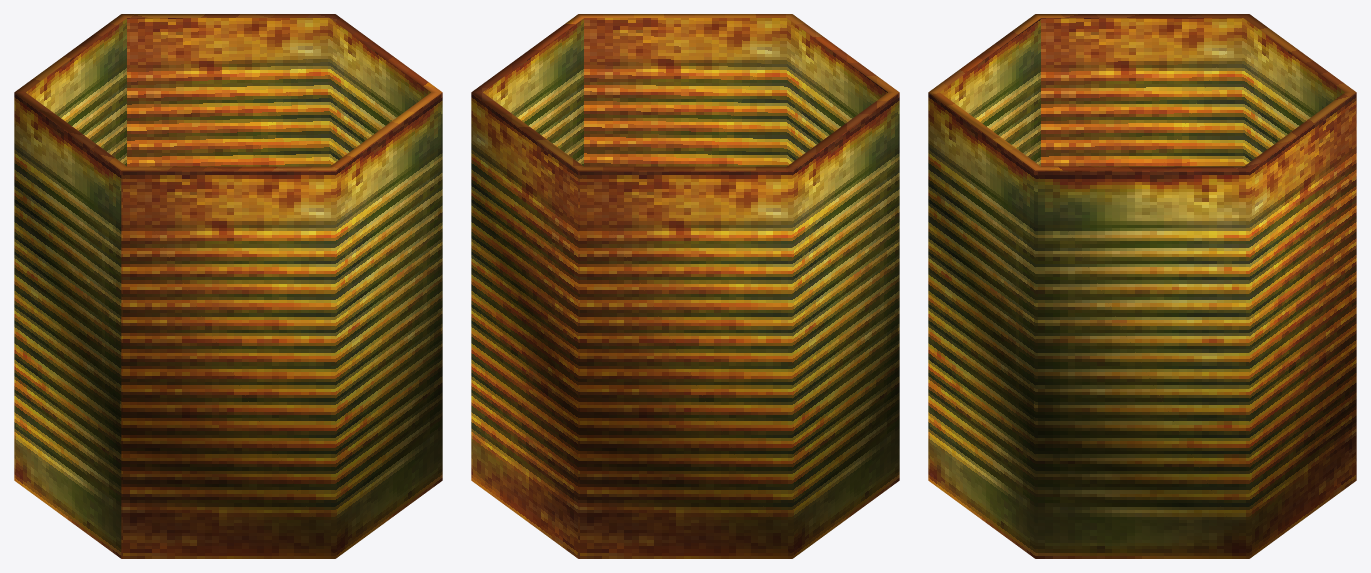
File: tin_2.glb
3 views of the same model, side by side, from view 1: azimuth 30°, elevation 25°; view 2: azimuth 150°, elevation 25°; view 3: azimuth 270°, elevation 25° (orthographic).
Visible parts, largest first — view 1: Tin_2; view 2: Tin_2; view 3: Tin_2.
Part boxes in pixels (x1=…): Tin_2: x1=14, y1=14, x2=442, y2=558; Tin_2: x1=471, y1=14, x2=899, y2=558; Tin_2: x1=928, y1=14, x2=1356, y2=558.
Size of the model in its own units: 0.2849 by 0.329 by 0.329.
1 material, 1 textured.
